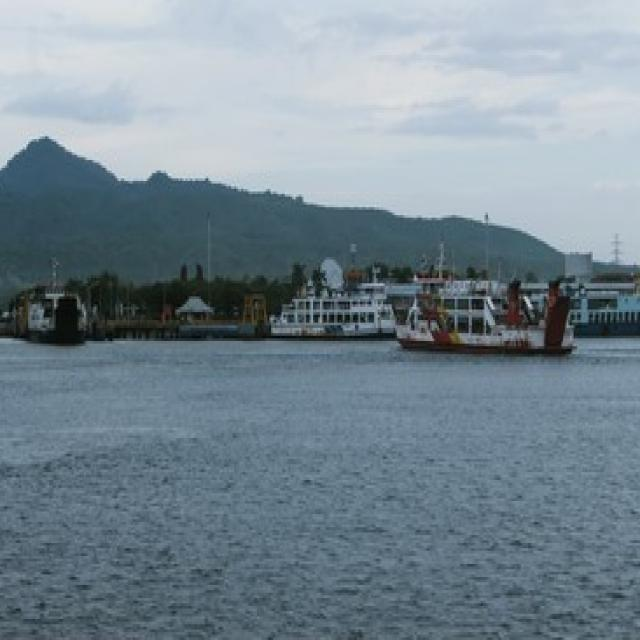passenger ship: (386, 259, 582, 392), (267, 245, 391, 345)
